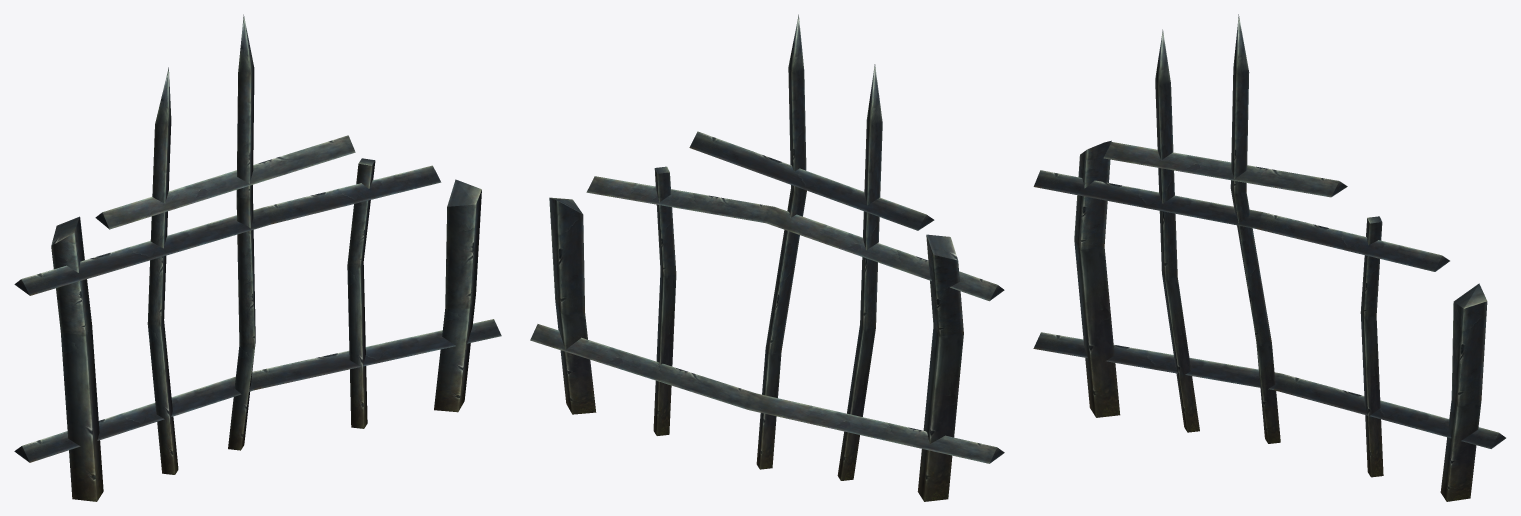
The model's file is C_zhalan003.fbx.
3 renders of one model, left to right at view 1: azimuth 30°, elevation 25°; view 2: azimuth 150°, elevation 25°; view 3: azimuth 330°, elevation 25°, orthographic. The views are drawn at different scales.
Visible parts, largest first — view 1: C_zhalan003; view 2: C_zhalan003; view 3: C_zhalan003.
Part boxes in pixels (left/top/right/bottom): C_zhalan003: left=14, top=14, right=501, bottom=501; C_zhalan003: left=530, top=14, right=1004, bottom=501; C_zhalan003: left=1033, top=14, right=1505, bottom=501.
Size of the model in its own units: 233 by 213 by 31.56.
